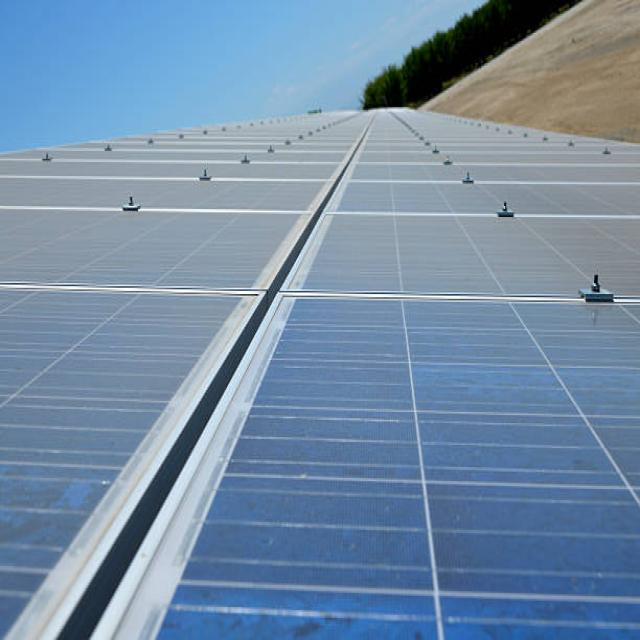dust-solar-panel: (0, 108, 640, 640)
